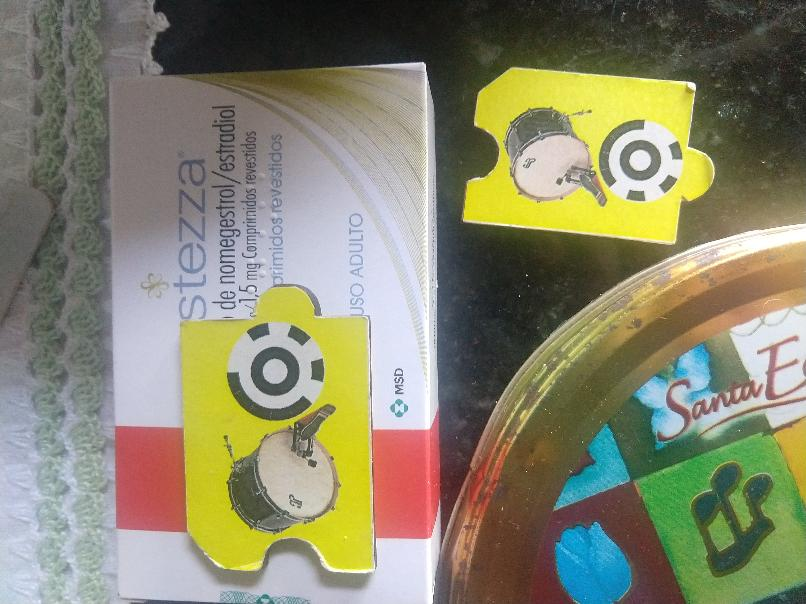bumbo: (179, 281, 379, 579), (459, 63, 719, 248)
